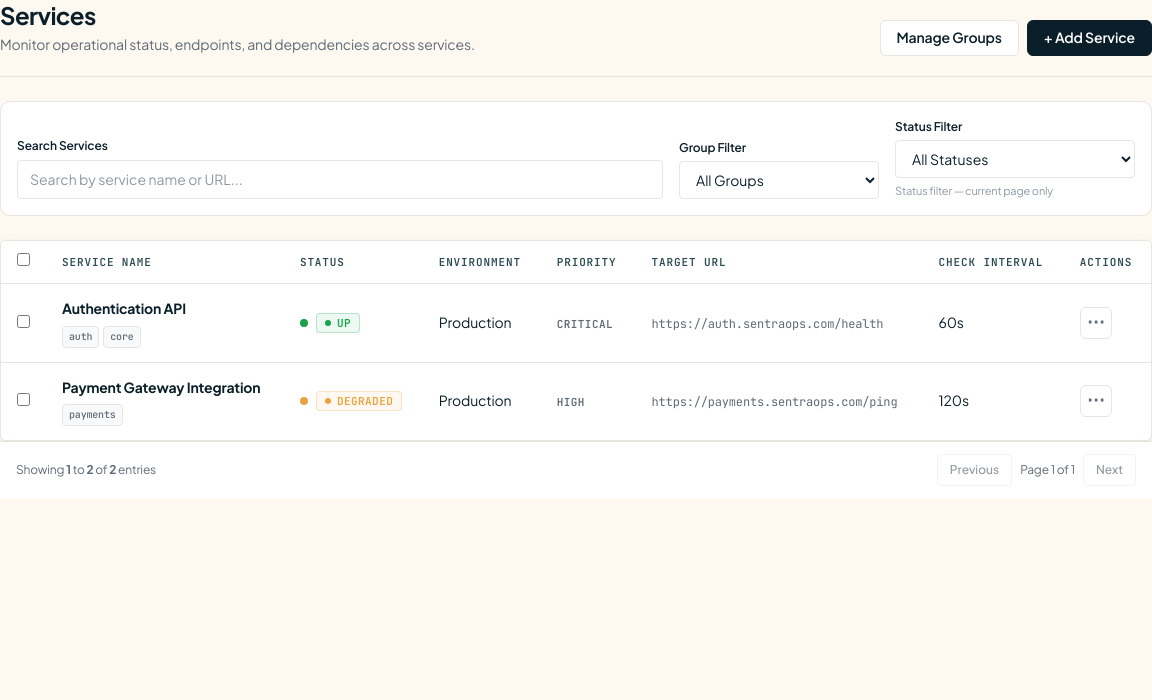
Test: Phase 4 — Services & Groups Integration & Compliance › Step 3.1: Richer Monitor Types & Assertions Form UI › switches between HTTP and Heartbeat monitor types and displays ping URL
The image size is (1152, 700).
Expected: the link "Authentication API" is shown, [62, 299, 186, 317]
Note: Open Create Service Drawer
Click the button "+ Add Service": (1089, 38) [1027, 20, 1151, 56]
(page scrolled)
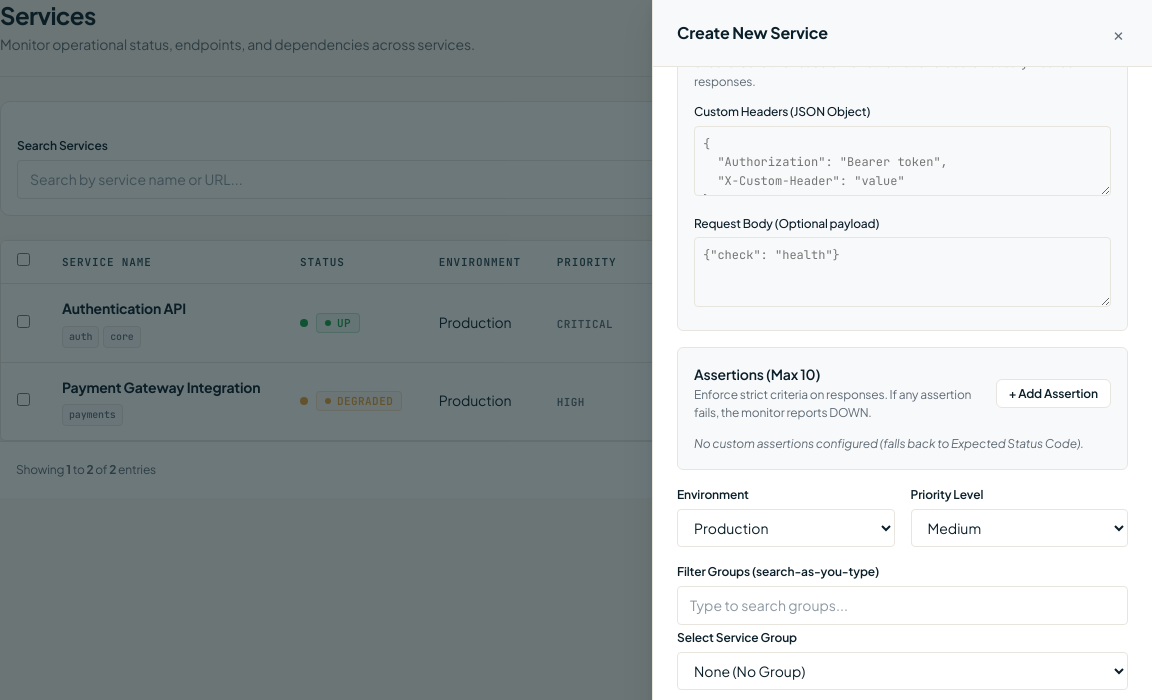
Expected: the heading "Create New Service" is shown, [677, 21, 828, 45]
Expected: the heading "Assertions (Max 10)" is shown, [694, 365, 820, 383]
Click the button "+ Add Assertion": (1053, 393) [996, 379, 1111, 408]
(page scrolled)
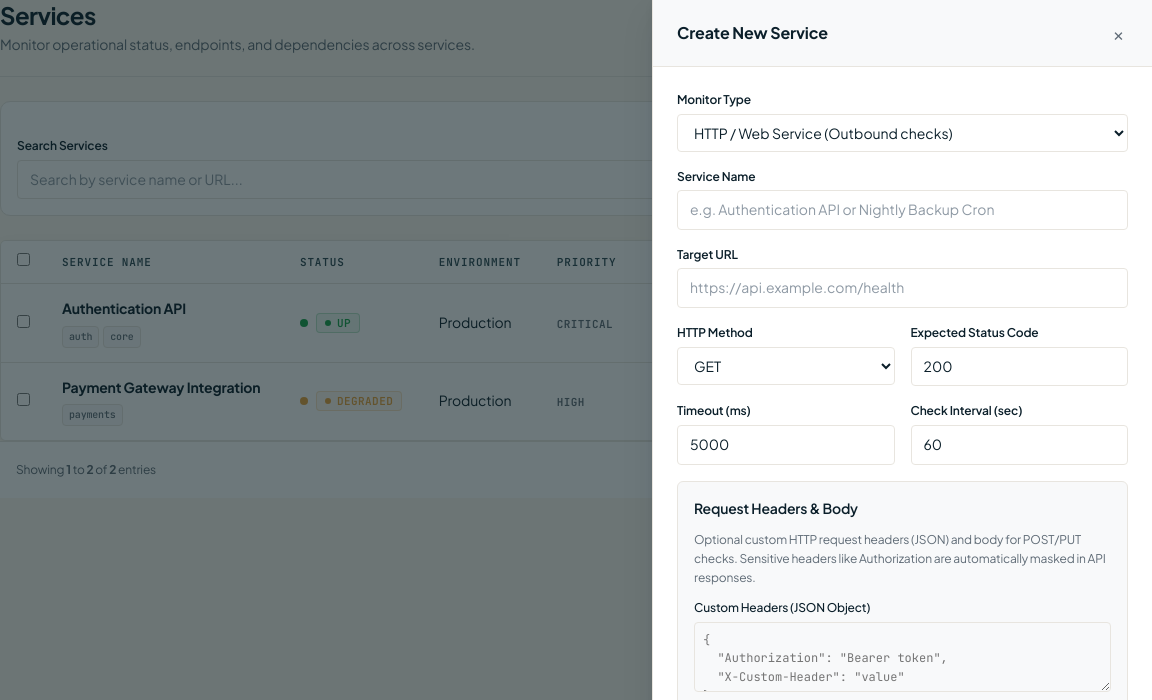
Note: Switch to Heartbeat monitor
Select "Heartbeat / Cron Monitor (Inbound pings)" in the dropdown labelled "Monitor Type": (902, 133) [677, 114, 1128, 152]
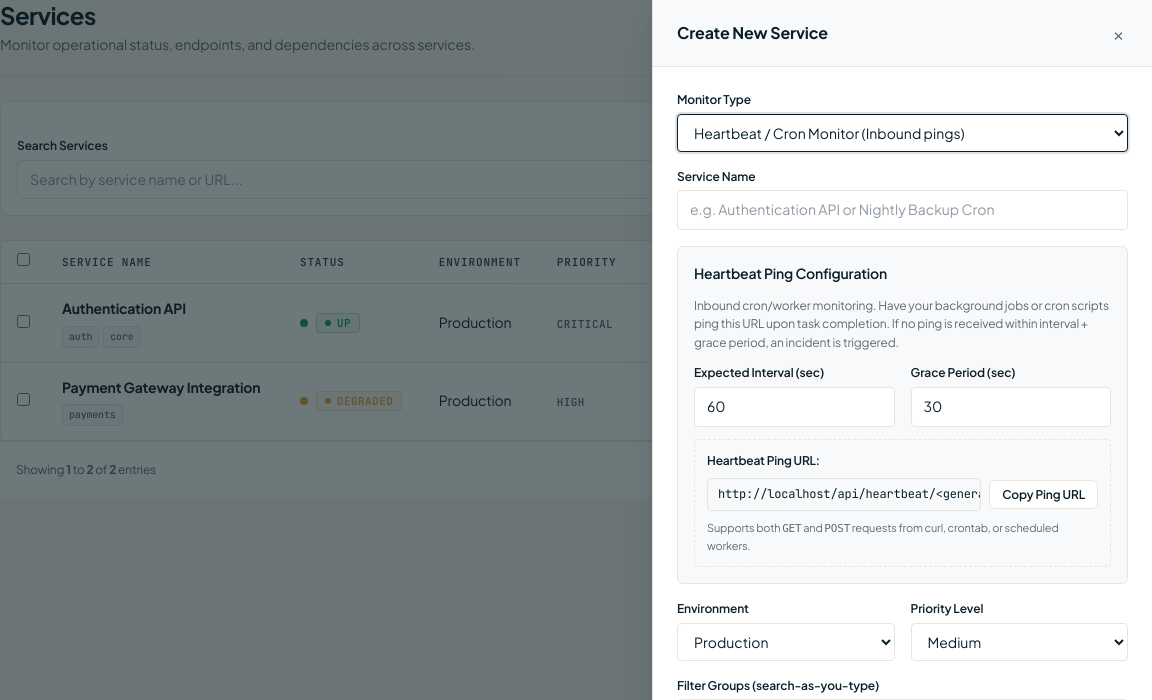
Expected: the heading "Heartbeat Ping Configuration" is shown, [694, 264, 887, 282]
Expected: the button "Copy Ping URL" is shown, [989, 480, 1098, 509]
